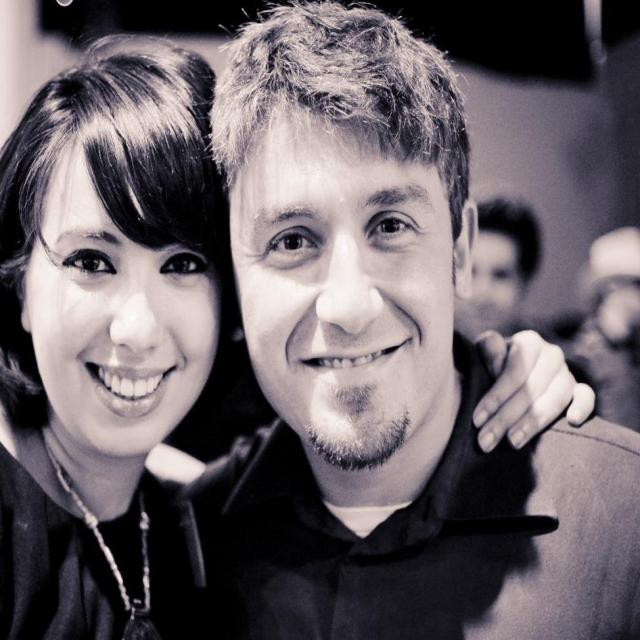no-glass: (258, 210, 425, 260), (56, 245, 204, 282)
